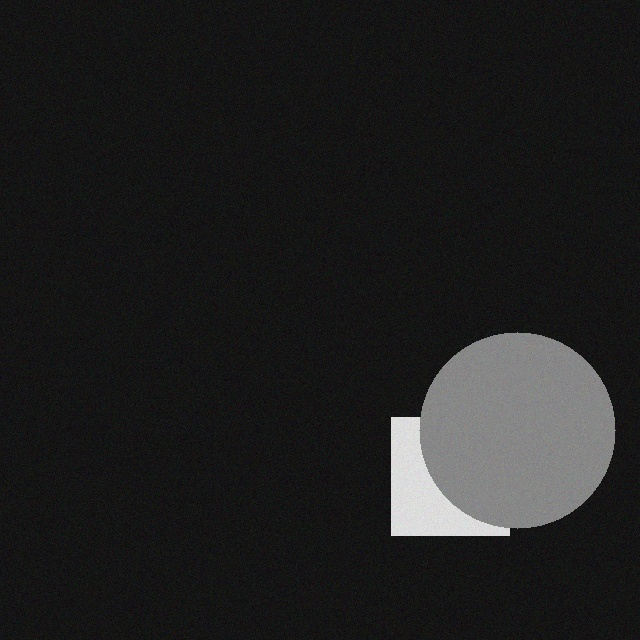circle: (410, 340, 606, 536)
square: (382, 425, 500, 543)
